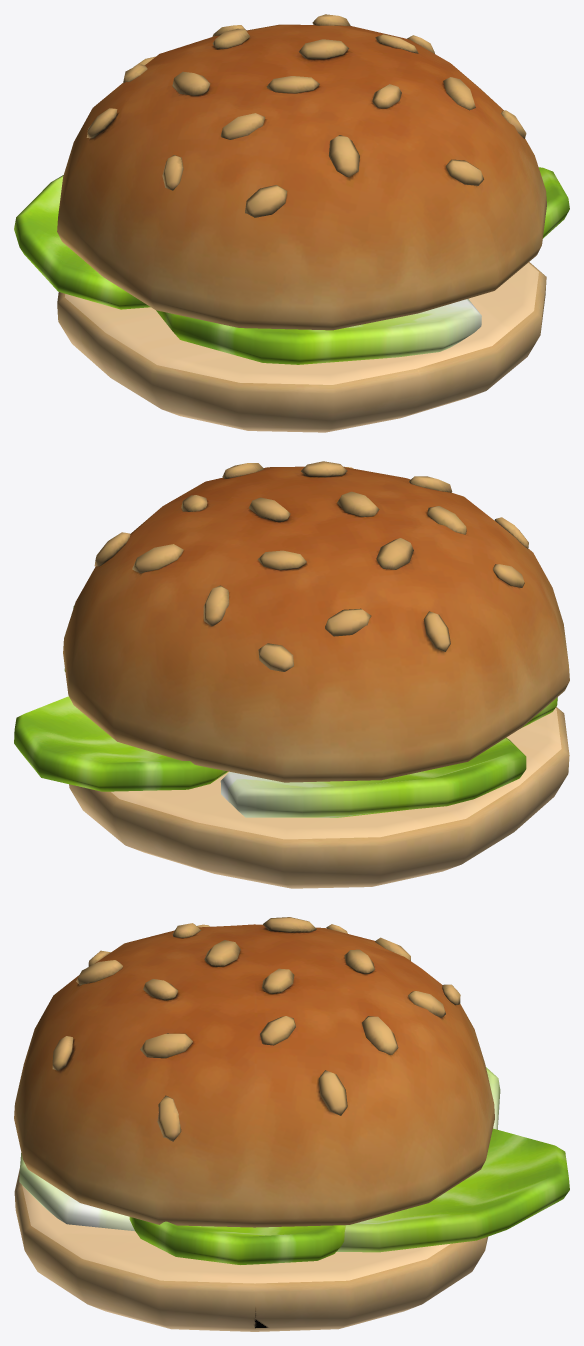
The model's file is Leffuce_burger.fbx.
3 views of the same model, one above another, from view 1: azimuth 30°, elevation 25°; view 2: azimuth 150°, elevation 25°; view 3: azimuth 270°, elevation 25° (orthographic). The views are drawn at different scales.
Visible parts, largest first — view 1: m_ingredients_bun_lid_01_0, m_ingredients_bun_base_01_0, m_recipe_cheese_lettuce_burger_01_3; view 2: m_ingredients_bun_lid_01_0, m_ingredients_bun_base_01_0, m_recipe_cheese_lettuce_burger_01_3; view 3: m_ingredients_bun_lid_01_0, m_ingredients_bun_base_01_0, m_recipe_cheese_lettuce_burger_01_3.
Part boxes in pixels (left/top/right/bottom): m_ingredients_bun_lid_01_0: left=57, top=14, right=546, bottom=330; m_ingredients_bun_base_01_0: left=57, top=262, right=546, bottom=432; m_recipe_cheese_lettuce_burger_01_3: left=14, top=167, right=569, bottom=364; m_ingredients_bun_lid_01_0: left=63, top=461, right=569, bottom=782; m_ingredients_bun_base_01_0: left=69, top=707, right=569, bottom=888; m_recipe_cheese_lettuce_burger_01_3: left=14, top=606, right=557, bottom=817; m_ingredients_bun_lid_01_0: left=14, top=917, right=494, bottom=1227; m_ingredients_bun_base_01_0: left=14, top=1168, right=487, bottom=1331; m_recipe_cheese_lettuce_burger_01_3: left=19, top=1067, right=569, bottom=1264.
Size of the model in its own units: 0.7104 by 0.4162 by 0.7214.
